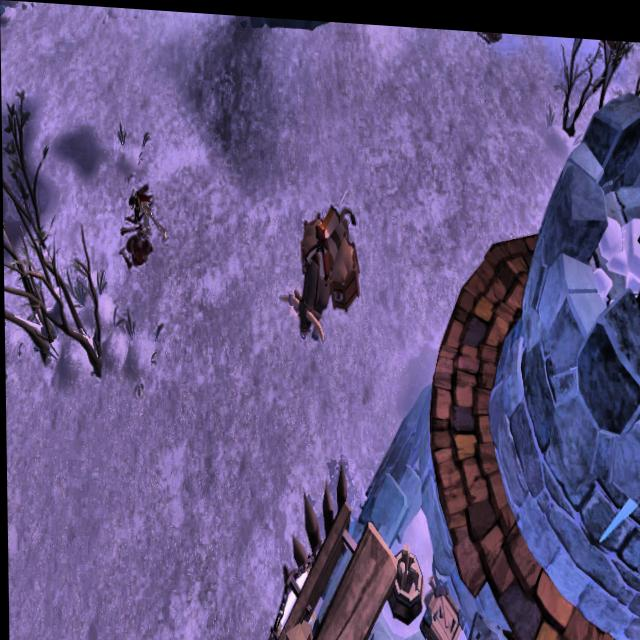enemy_factionUndead: (129, 184, 166, 245)
